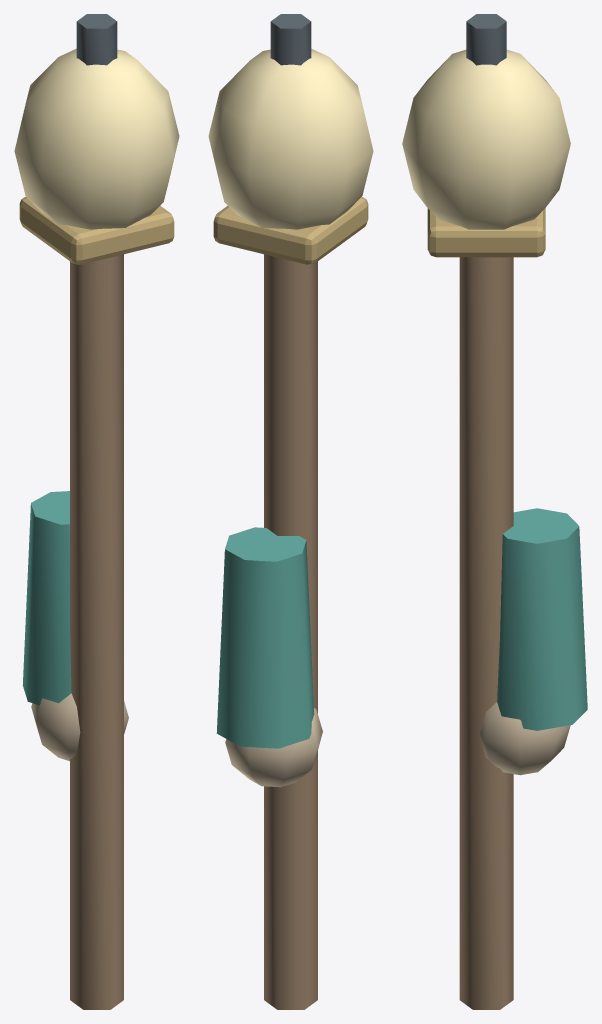
File: courier_arm.glb
3 renders of one model, left to right at view 1: azimuth 30°, elevation 25°; view 2: azimuth 150°, elevation 25°; view 3: azimuth 270°, elevation 25°, orthographic.
Parts seen in each view (by area): view 1: courier_arm_Palette, courier_arm_Glow; view 2: courier_arm_Palette, courier_arm_Glow; view 3: courier_arm_Palette, courier_arm_Glow.
Part boxes in pixels (x1=…): courier_arm_Palette: x1=19, y1=14, x2=174, y2=1009; courier_arm_Glow: x1=14, y1=48, x2=179, y2=229; courier_arm_Palette: x1=213, y1=14, x2=368, y2=1009; courier_arm_Glow: x1=208, y1=48, x2=373, y2=229; courier_arm_Palette: x1=427, y1=14, x2=587, y2=1009; courier_arm_Glow: x1=402, y1=49, x2=570, y2=229.
Size of the model in its own units: 0.0951 by 0.64 by 0.11.
